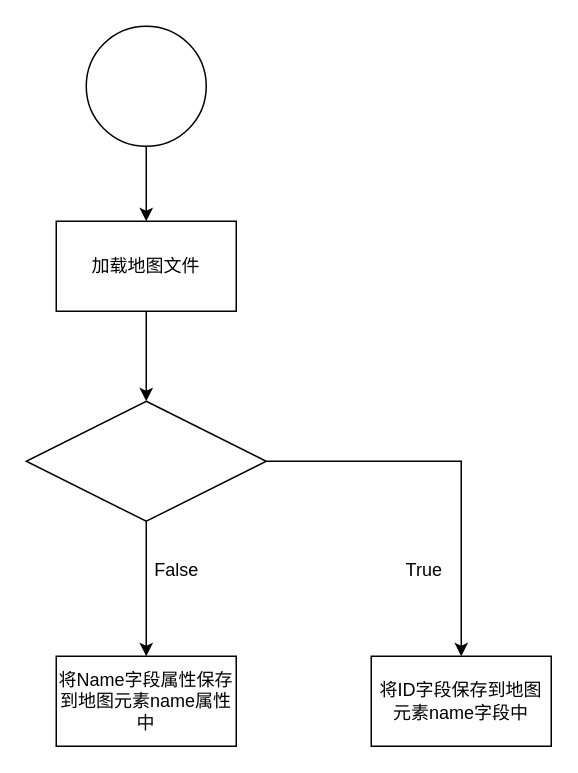
Image size: 578x773. Some labels were removed from this diagram. The shapes that lost their labels are listed below. From the top down, each one's centre as x and y in pixels, then its label:
(x=145, y=85): 开始
(x=145, y=460): 元素是否存在Name字段
